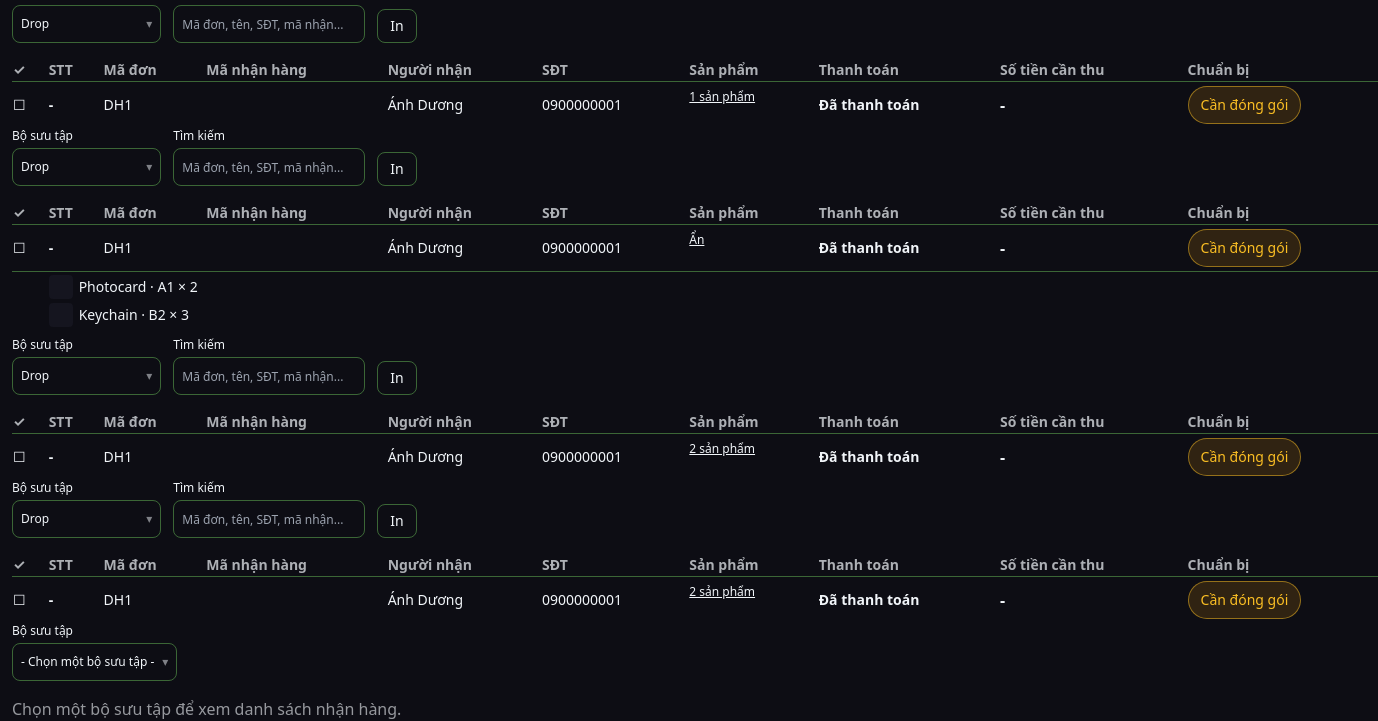
it: ShippingRoster › shows a '+ Sản phẩm số' badge next to the order code, matching the export queue's cue
This screenshot has width=1378, height=721.
(page scrolled)
Click the button with aria-label "- Chọn một bộ sưu tập -" at point(95, 662), box x1=12 y1=643 x2=177 y2=681
(page scrolled)
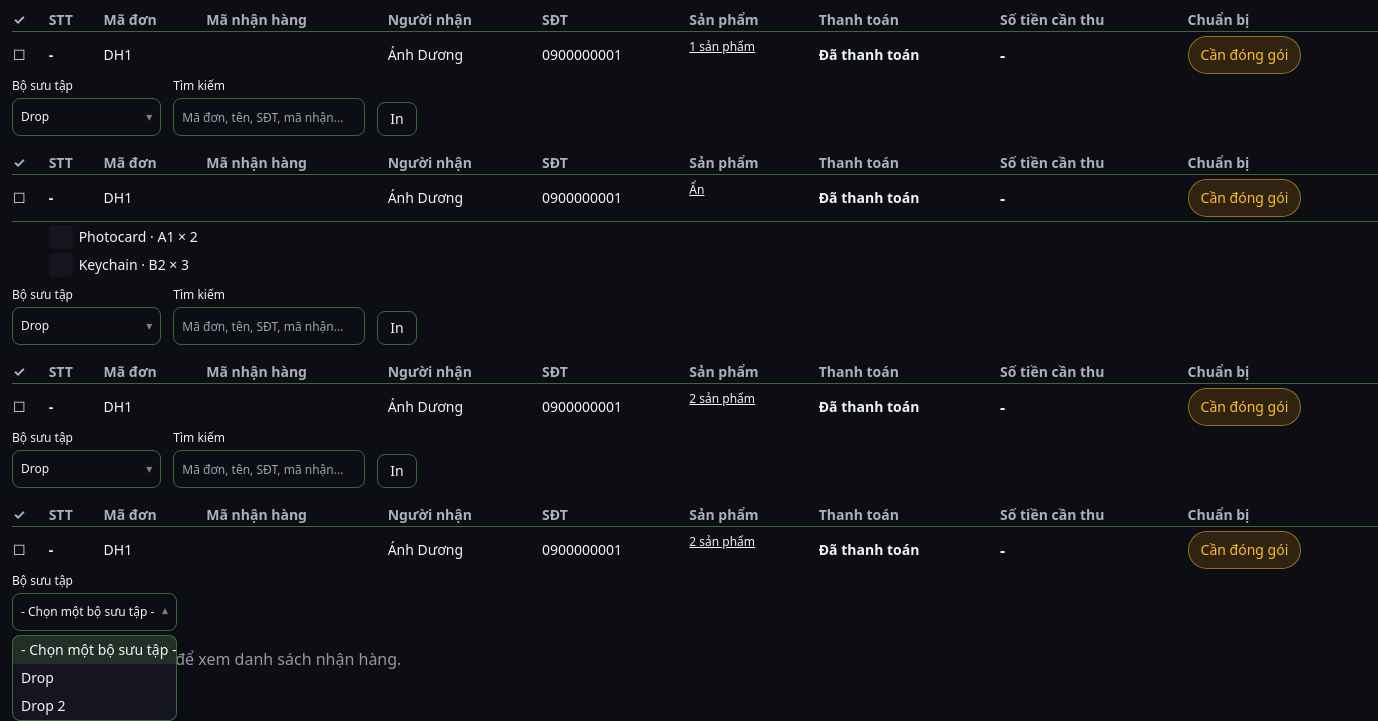
Click the button "Drop" at point(95, 678), box x1=13 y1=664 x2=176 y2=692
(page scrolled)
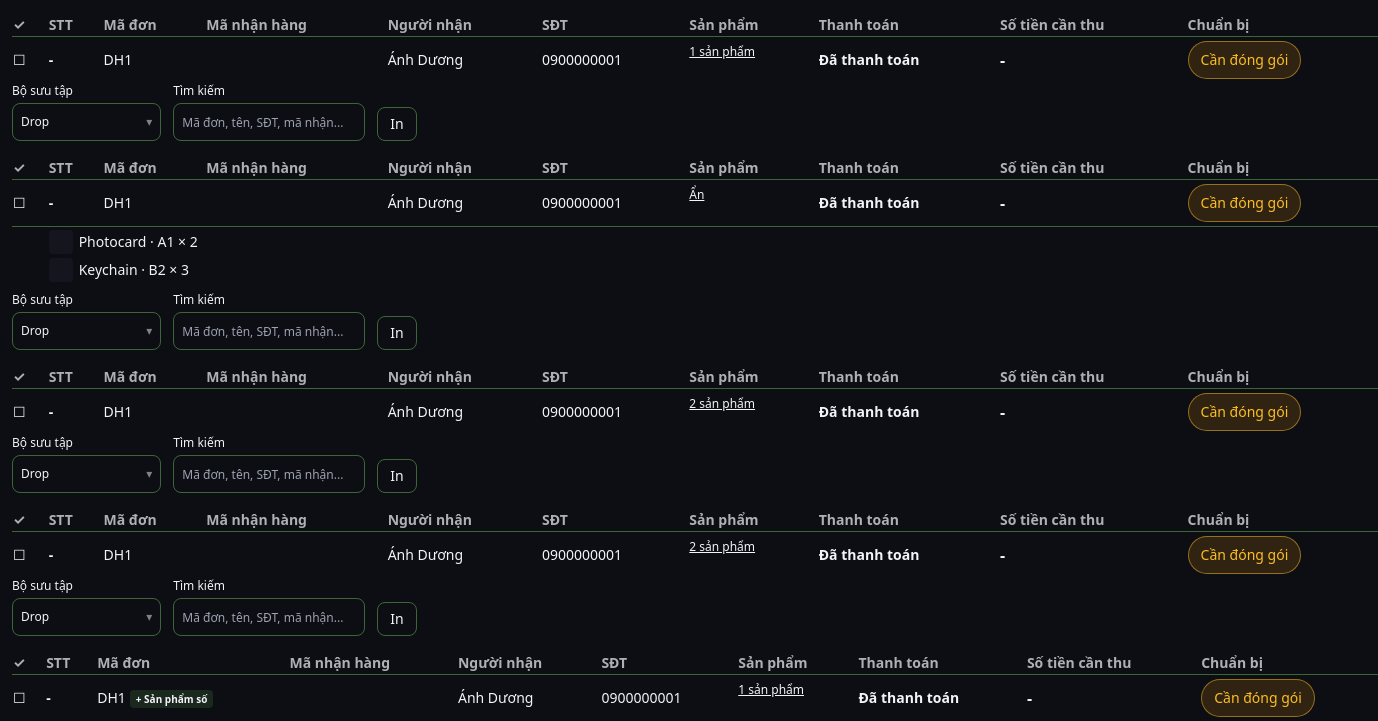
Expected: the row with test id "order-row-1" shows "+ Sản phẩm số", x1=136 y1=692 x2=207 y2=706
